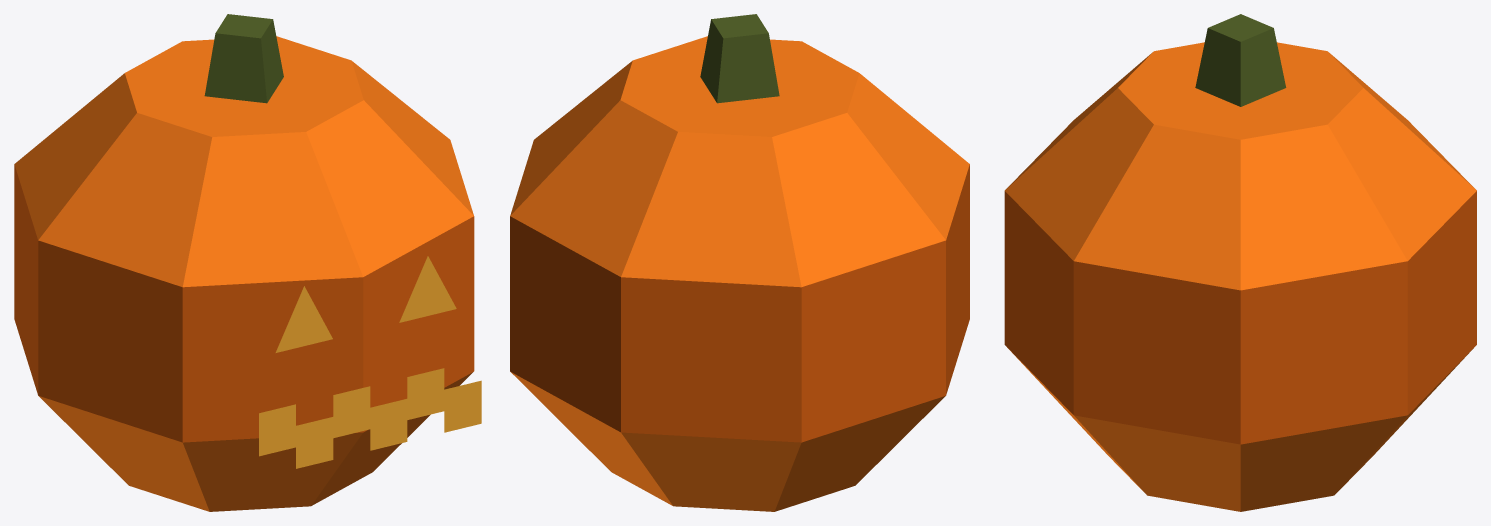
The model's file is pumpkin.glb.
The picture shows the model from 3 angles, left to right: view 1: azimuth 30°, elevation 25°; view 2: azimuth 150°, elevation 25°; view 3: azimuth 270°, elevation 25°; orthographic projection.
Visible parts, largest first — view 1: pumpkin; view 2: pumpkin; view 3: pumpkin.
Part boxes in pixels (x1=…): pumpkin: x1=14, y1=14, x2=481, y2=511; pumpkin: x1=510, y1=14, x2=969, y2=511; pumpkin: x1=1004, y1=14, x2=1476, y2=511.
Size of the model in its own units: 1 by 1 by 1.01.
